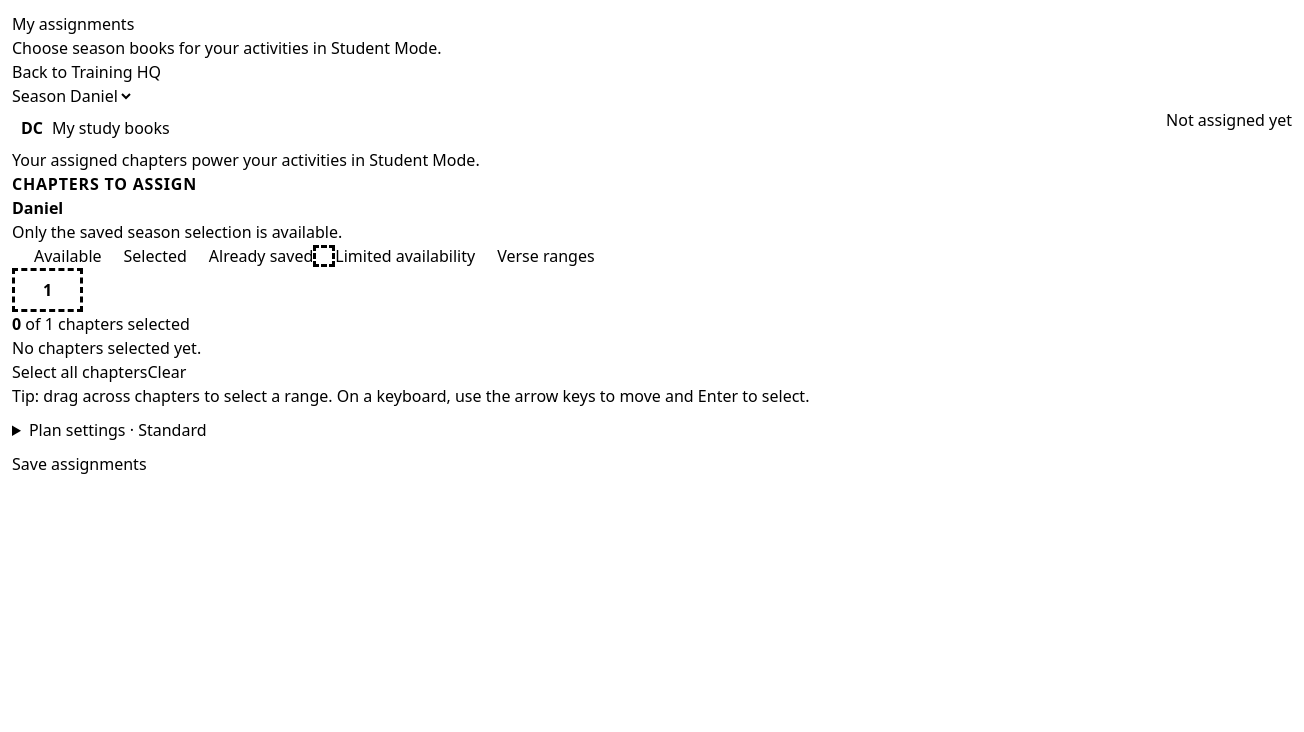
Test: adds a personal assignment using permitted passages and Standard difficulty
What coordinates should you click on to do the following:
click the button named "Chapter 1"
I would click on:
 (48, 290)
Its box is [12, 268, 83, 312].
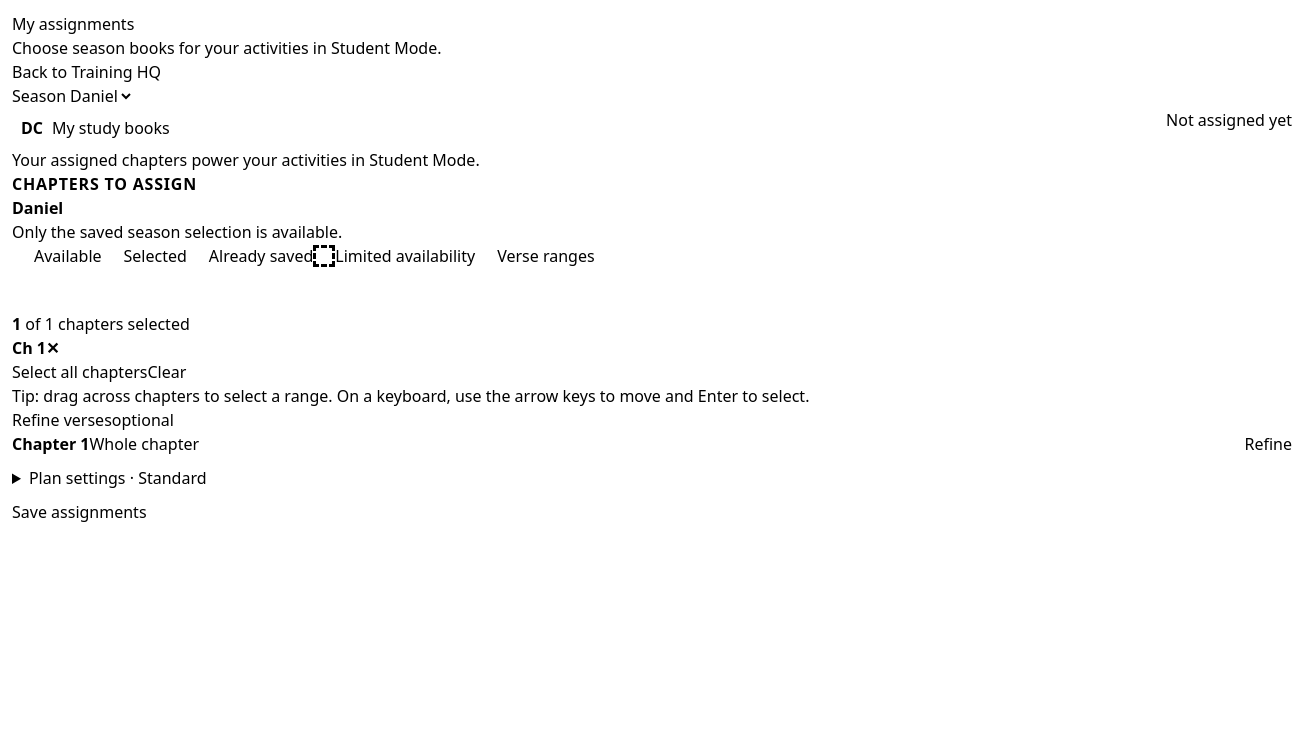
Check: the button "Save assignments" is enabled
What coordinates should you click on to do the following:
click the button "Save assignments"
I would click on:
 (79, 512)
Its box is [12, 500, 146, 524].
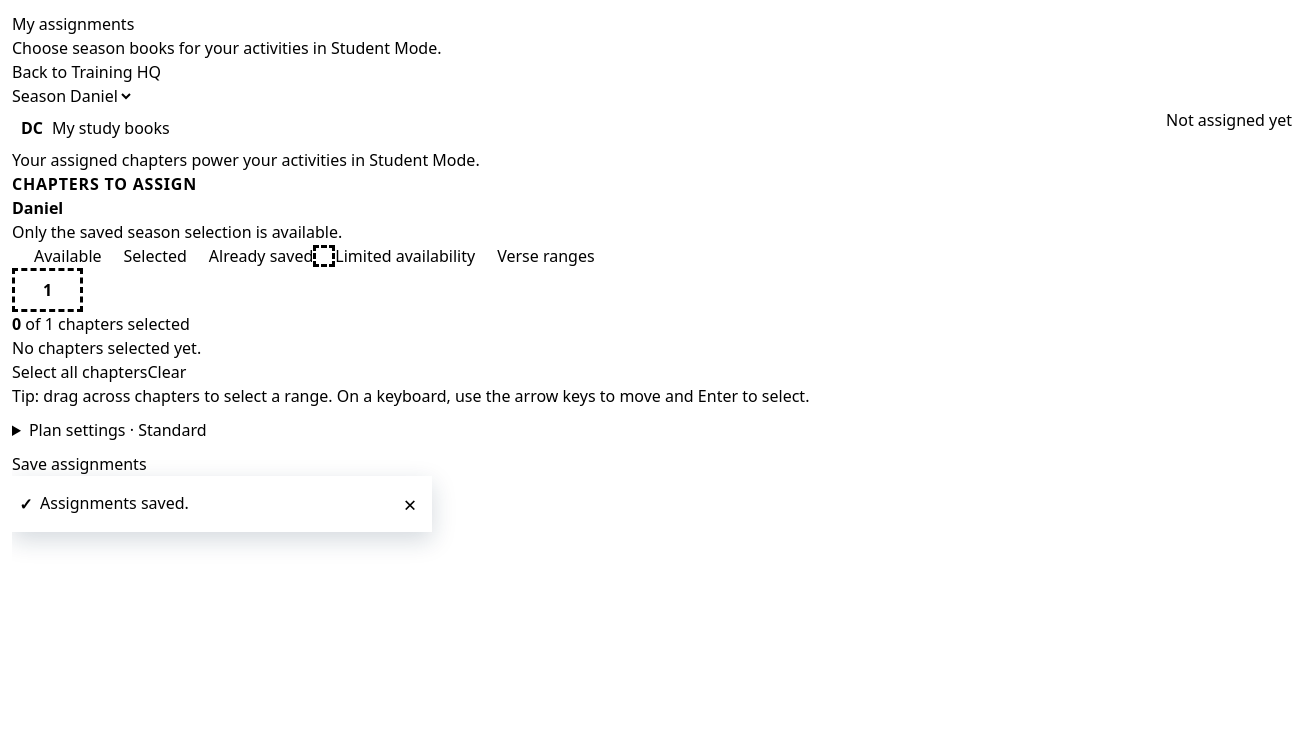
Check: the text "Assignments saved." is shown, box [40, 492, 189, 514]
